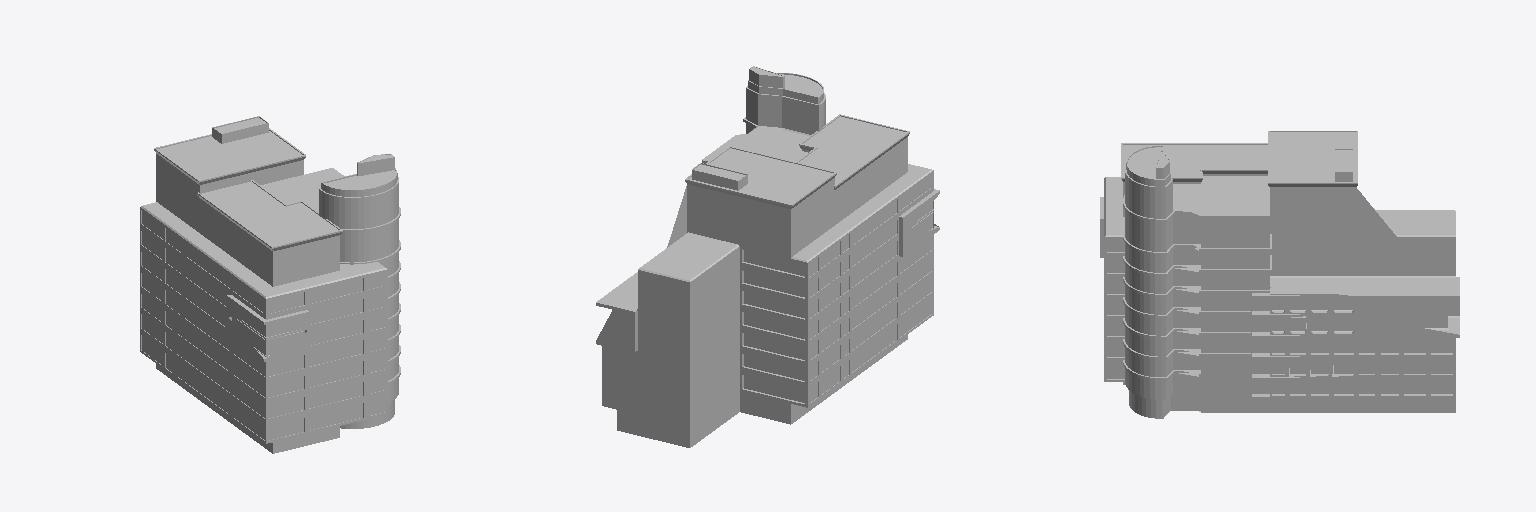
The model's file is city.obj.
3 renders of one model, left to right at view 1: azimuth 30°, elevation 25°; view 2: azimuth 150°, elevation 25°; view 3: azimuth 270°, elevation 25°, orthographic.
Parts seen in each view (by area): view 1: Building_45; view 2: Building_45; view 3: Building_45.
Part boxes in pixels (bbox=[...]): Building_45: bbox=[140, 116, 400, 453]; Building_45: bbox=[596, 66, 939, 447]; Building_45: bbox=[1100, 131, 1459, 418].
Bounding box in the file's own units: 1790 × 2625 × 3414.